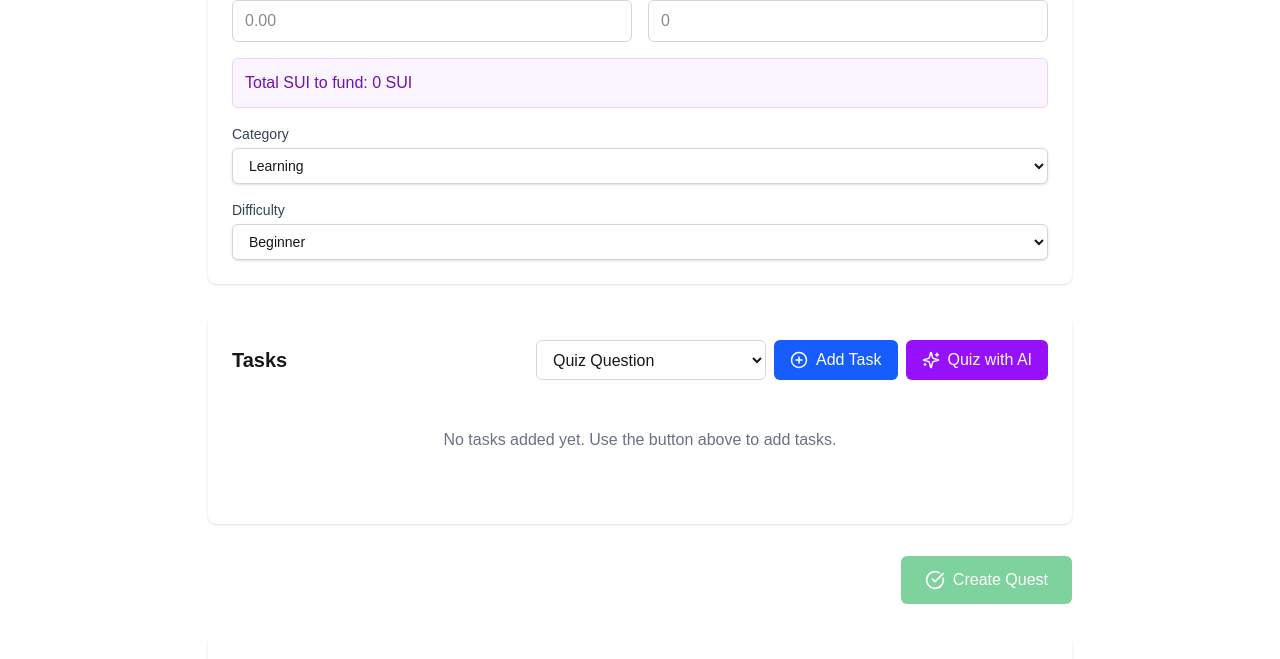
Test case: CreateQuestPage › allows adding and removing tasks
(page scrolled)
Expected: the text "No tasks added yet. Use the button above to add tasks." is shown, [443,431,836,448]
# Add a task
Click the button "Add Task".
click(836, 360)  # box [774,340,898,380]
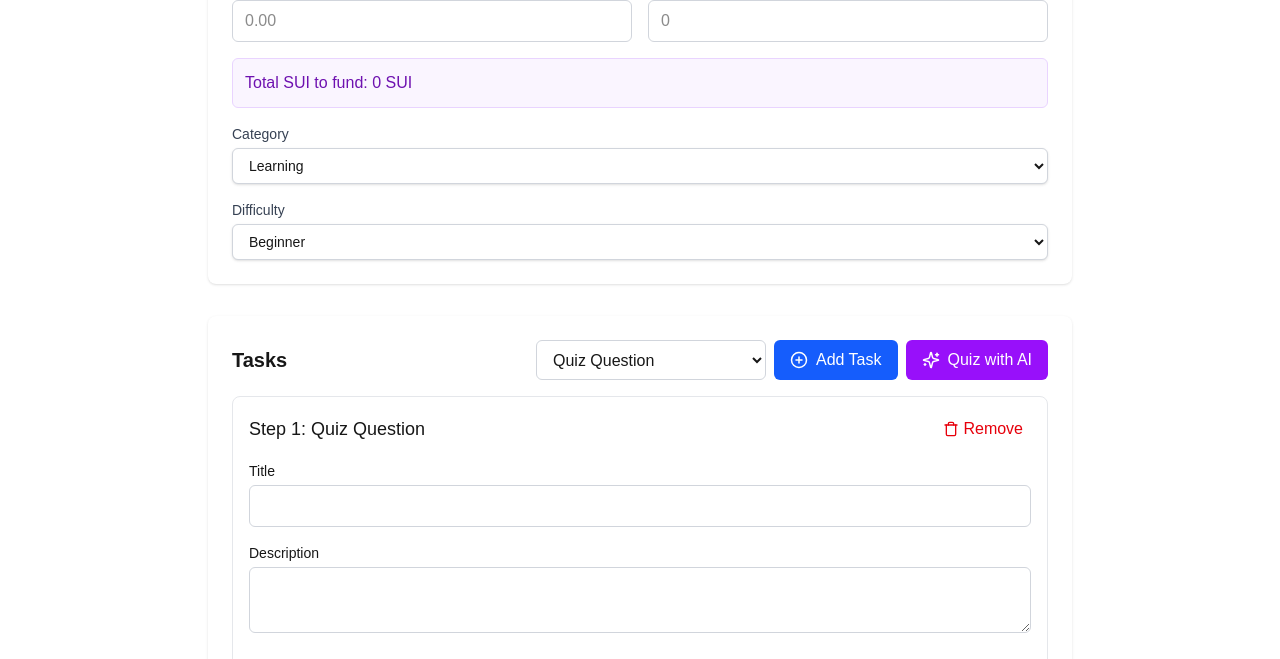
# Add text to the task
Type "Task One Title" into the field labelled "Title".
click(640, 506); type("Task One Title")  # box [249,485,1031,527]
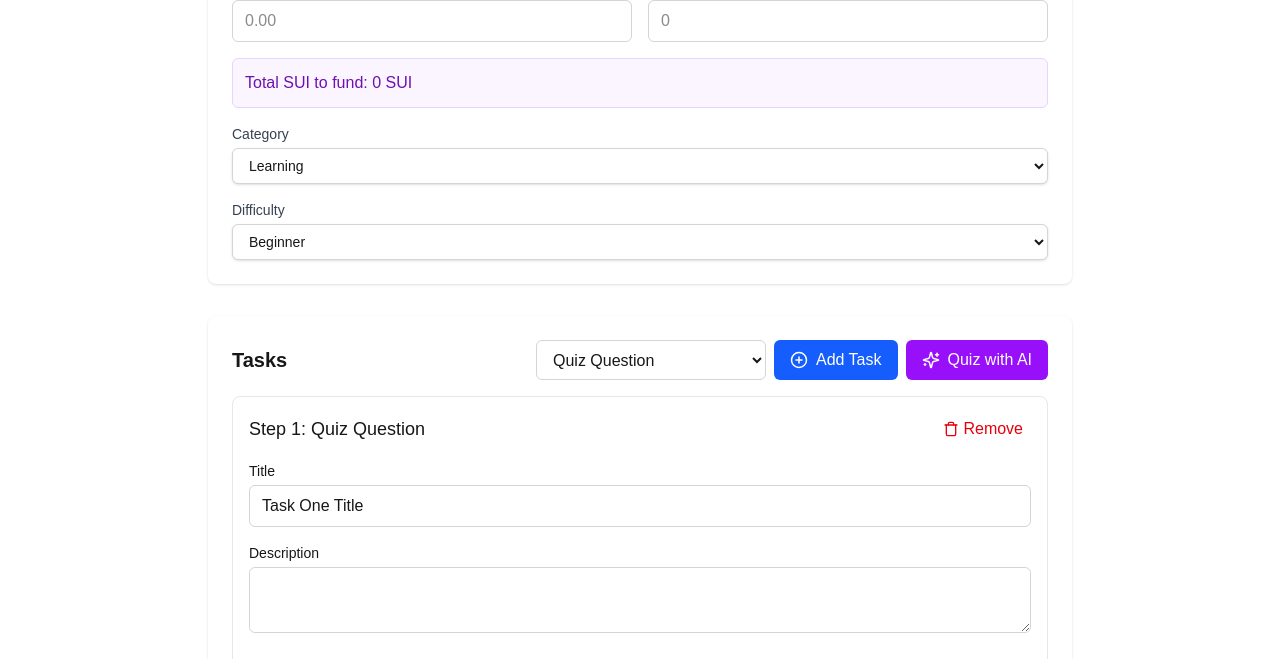
Type "Task 1 Description" into the text box labelled "Description".
click(640, 600); type("Task 1 Description")  # box [249,567,1031,633]
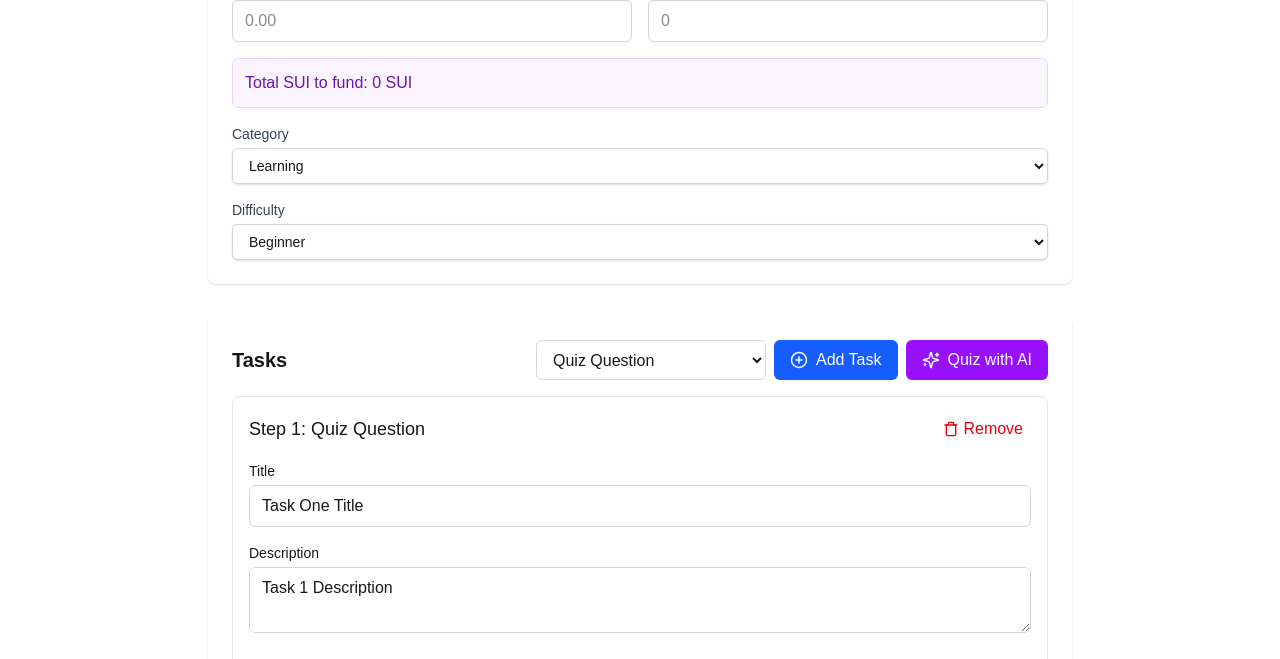
# Remove the task using the button within the task section
Click the button "Remove".
click(983, 429)  # box [935,413,1031,445]
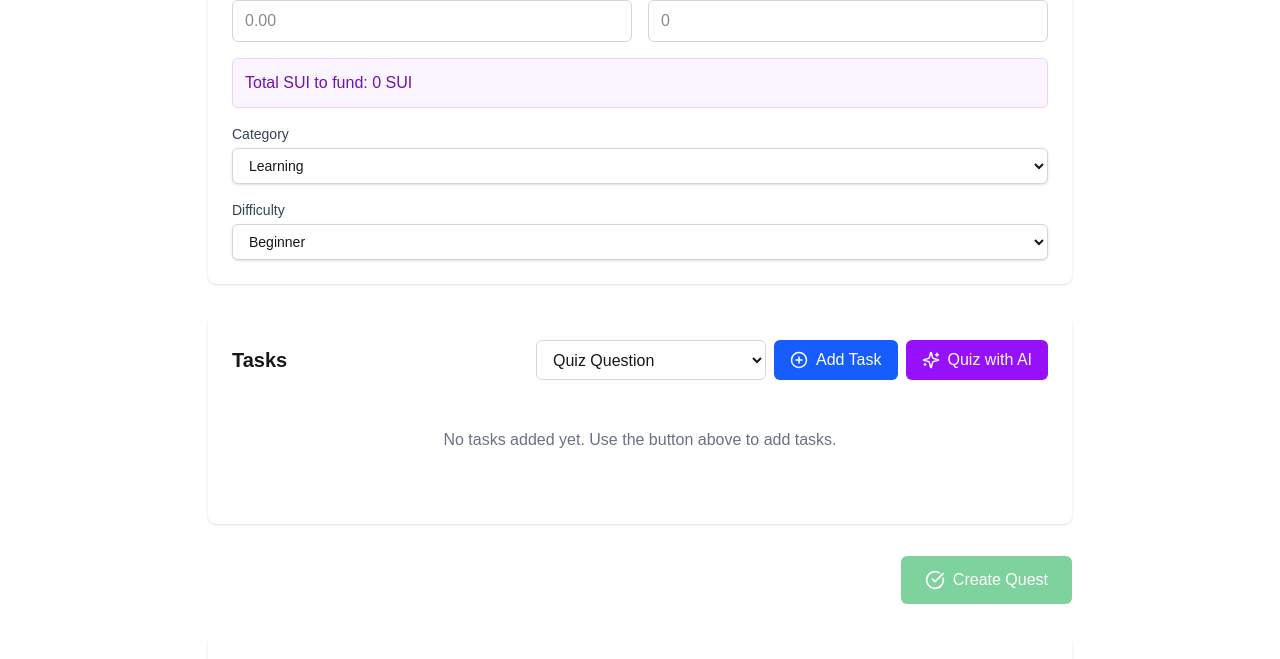
Expected: the text "No tasks added yet. Use the button above to add tasks." is shown, [443,431,836,448]
